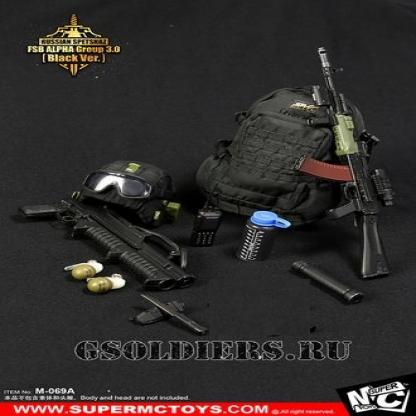Grenade: (64, 256, 108, 279), (83, 273, 127, 292)
Gun: (293, 44, 399, 280), (14, 195, 199, 293)
Knife: (134, 292, 210, 335)
